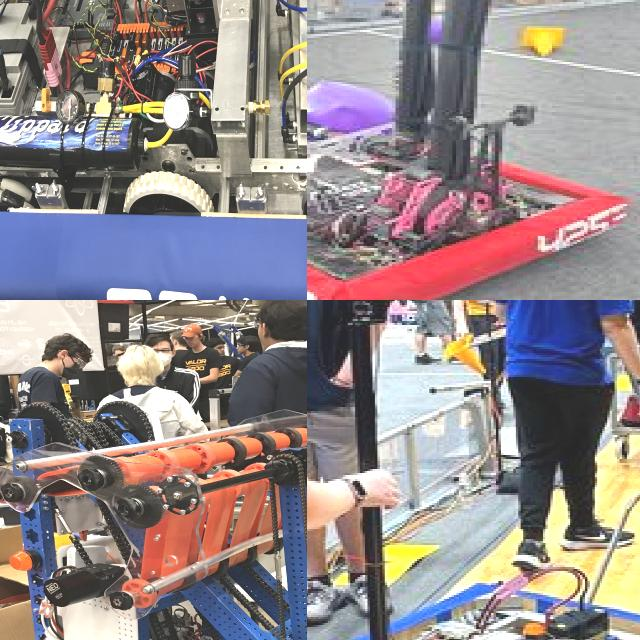FRC-Robots: (307, 300, 640, 640), (307, 0, 640, 300), (0, 0, 307, 300), (0, 420, 307, 640)
